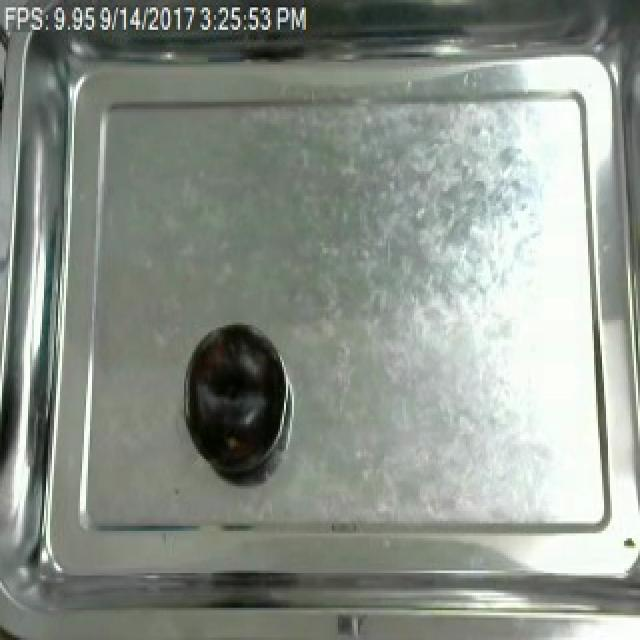Fruit: (182, 320, 280, 471)
